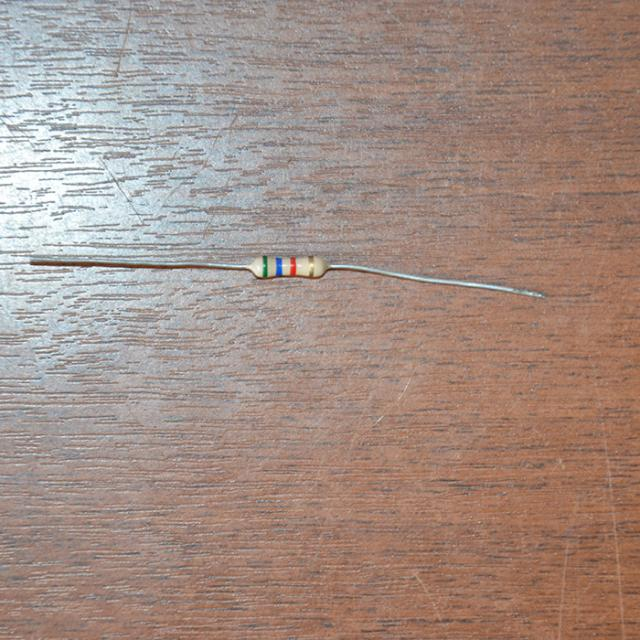blue: (276, 256, 282, 274)
gold: (308, 256, 314, 276)
green: (262, 256, 268, 276)
red: (290, 257, 295, 273)
resistor: (242, 241, 330, 295)
